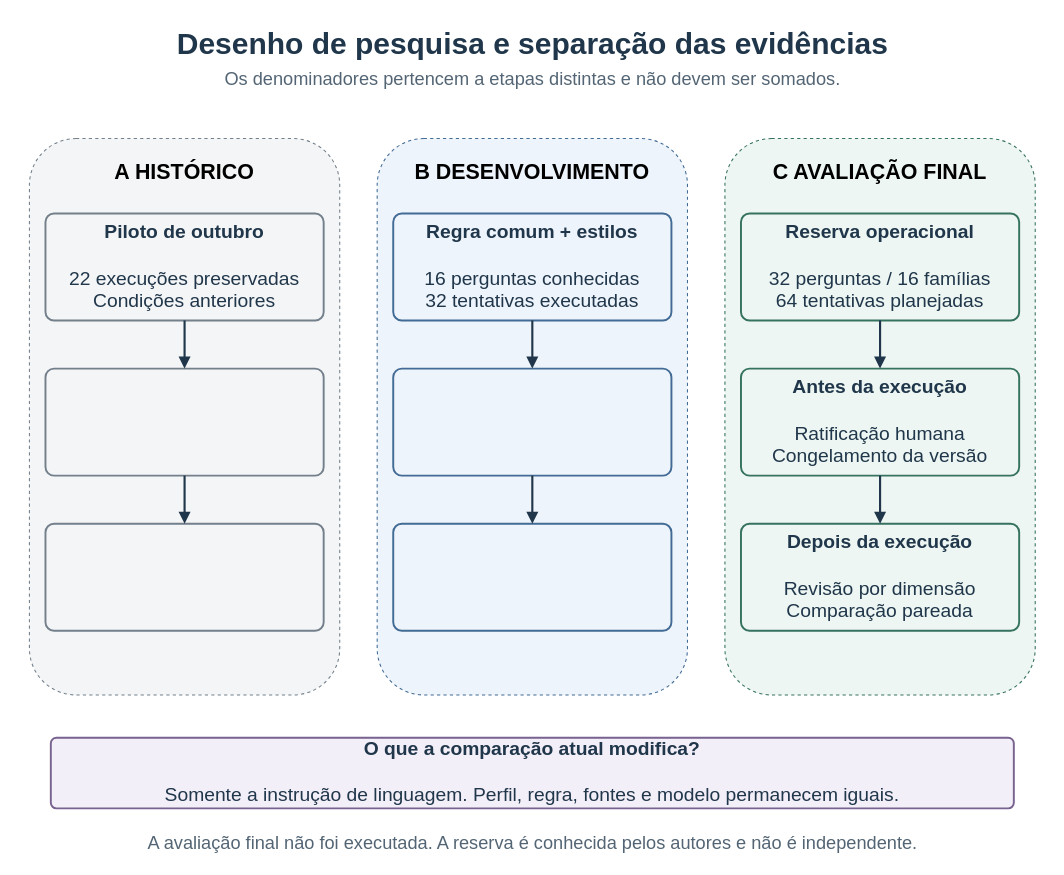
This 1064x875 diagram has some shape labels left out. The centre of each missing label's shape, as x and y in pixels:
Dois lotes de Ciências 108 execuções no total 27 perguntas reutilizadas: the point at 184,421
Inspeção assistida por IA 5 de 8 explicações com ressalvas de sustentação: the point at 532,421
Limite da interpretação Campos humanos vazios Sem eficácia demonstrada: the point at 532,576
Uso das evidências Descrever falhas e versões Sem integrar o lote atual: the point at 184,576
